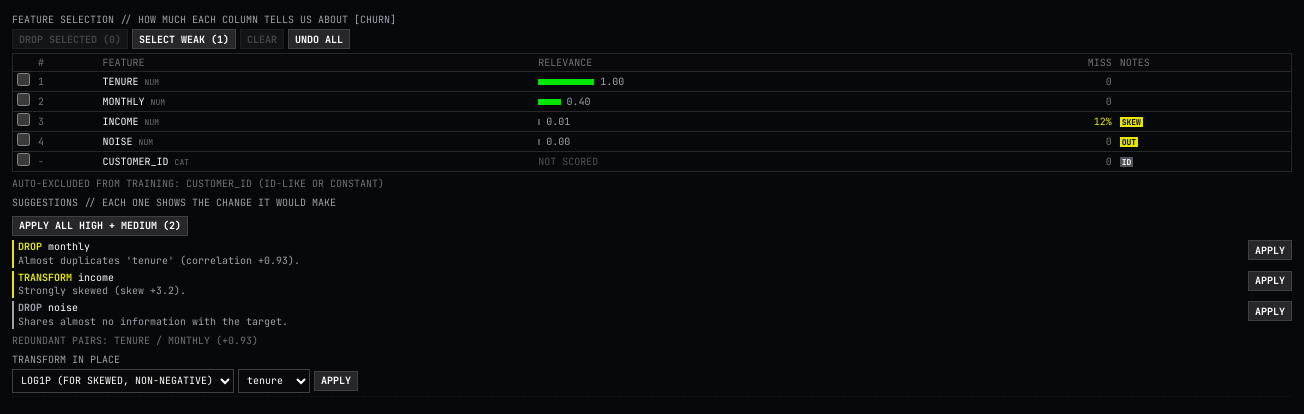
Test: FeaturesTab › "select weak" ticks the low-relevance columns
Check: the table with test id "features-table" is shown, box [13, 54, 1291, 171]
What coordinates should you click on to do the following:
click the button with test id "feat-pick-weak"
I would click on:
 (184, 39)
Its box is [132, 29, 236, 49].
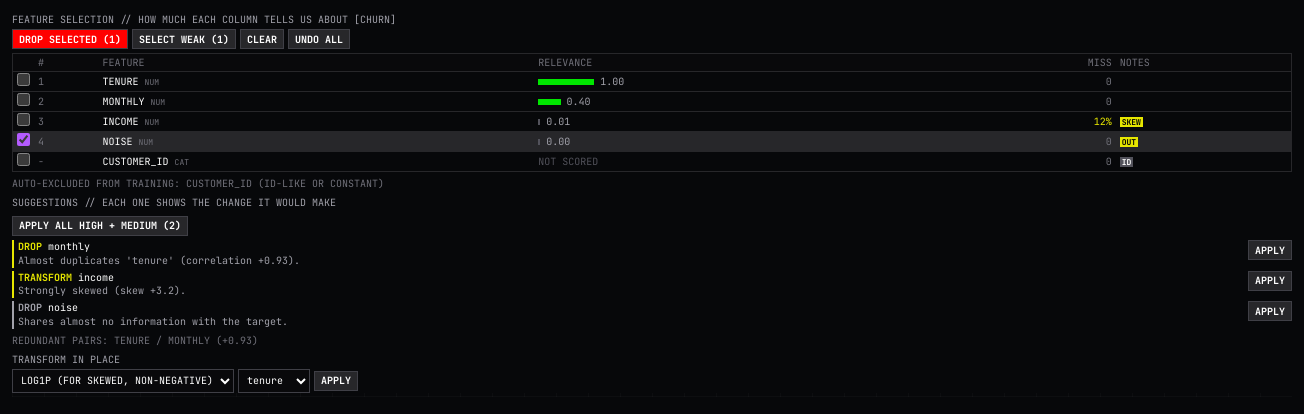
Check: the checkbox with test id "feat-pick-tenure" is not checked, box [17, 73, 30, 86]
Check: the checkbox with test id "feat-pick-noise" is checked, box [17, 133, 30, 146]
